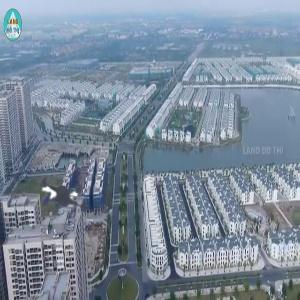drone: (11, 145, 117, 251)
